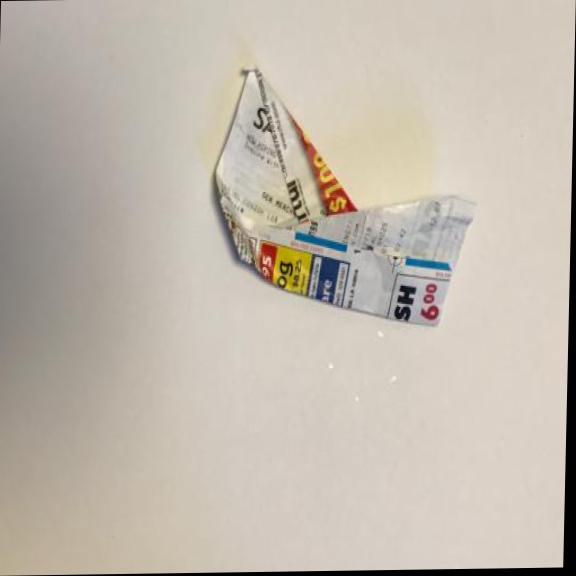Kertas: (191, 61, 480, 345)
